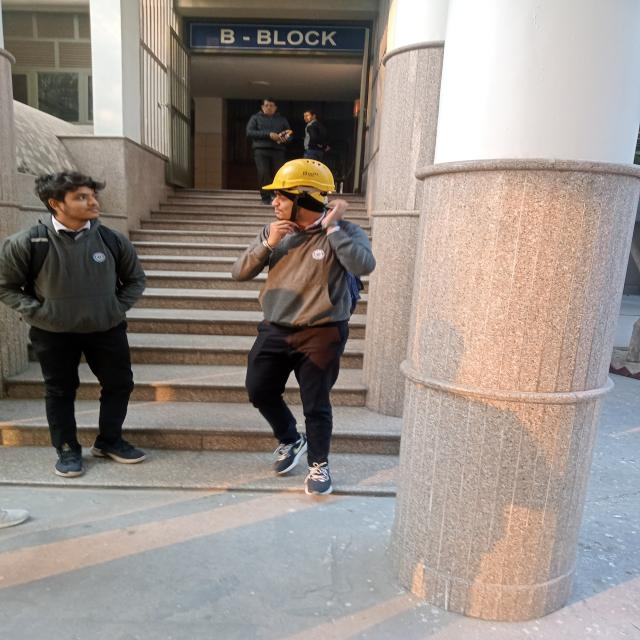no jacket: (241, 154, 360, 500)
unsafe: (5, 171, 157, 480), (240, 88, 302, 194)
